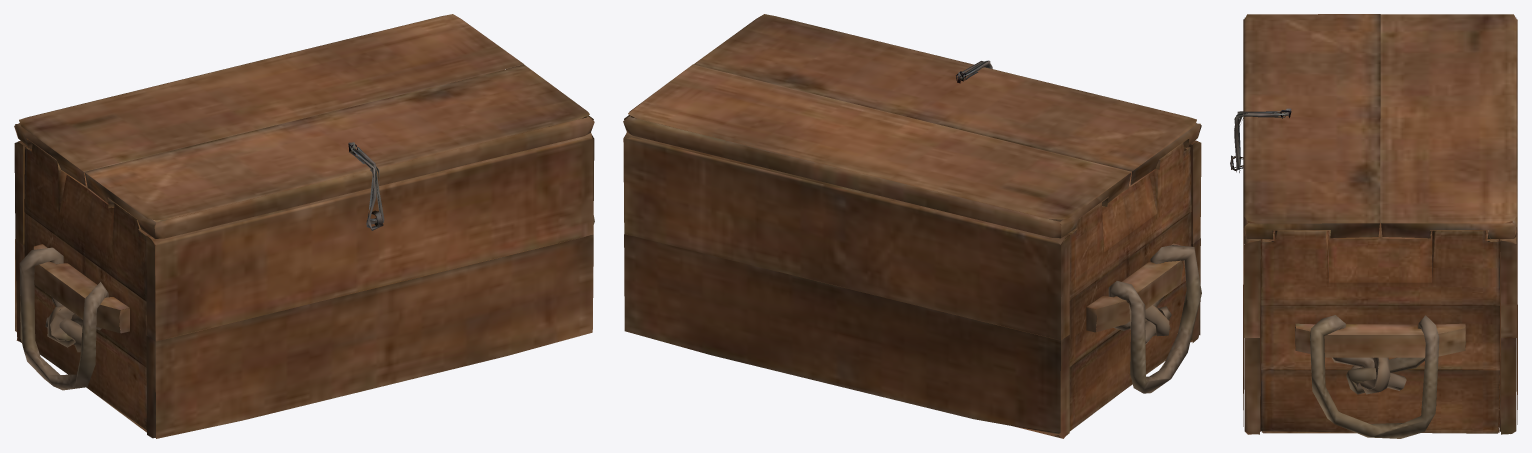
Rendered from wooden_crate_01.glb.
The picture shows the model from 3 angles, left to right: view 1: azimuth 30°, elevation 25°; view 2: azimuth 150°, elevation 25°; view 3: azimuth 270°, elevation 25°; orthographic projection. The views are drawn at different scales.
Visible parts, largest first — view 1: wooden_crate_01, wooden_crate_01_lid, wooden_crate_01_latch; view 2: wooden_crate_01, wooden_crate_01_lid; view 3: wooden_crate_01_lid, wooden_crate_01, wooden_crate_01_latch.
Boxes of the visible parts, left/top/right/bottom form: wooden_crate_01: left=14, top=133, right=594, bottom=438; wooden_crate_01_lid: left=14, top=14, right=594, bottom=238; wooden_crate_01_latch: left=349, top=147, right=384, bottom=230; wooden_crate_01: left=623, top=132, right=1201, bottom=438; wooden_crate_01_lid: left=623, top=14, right=1201, bottom=238; wooden_crate_01_lid: left=1243, top=14, right=1517, bottom=239; wooden_crate_01: left=1230, top=155, right=1517, bottom=438; wooden_crate_01_latch: left=1234, top=111, right=1288, bottom=172.
Size of the model in its own units: 0.8202 by 0.3498 by 0.4076.
Materials: 1 (1 with a texture image).
